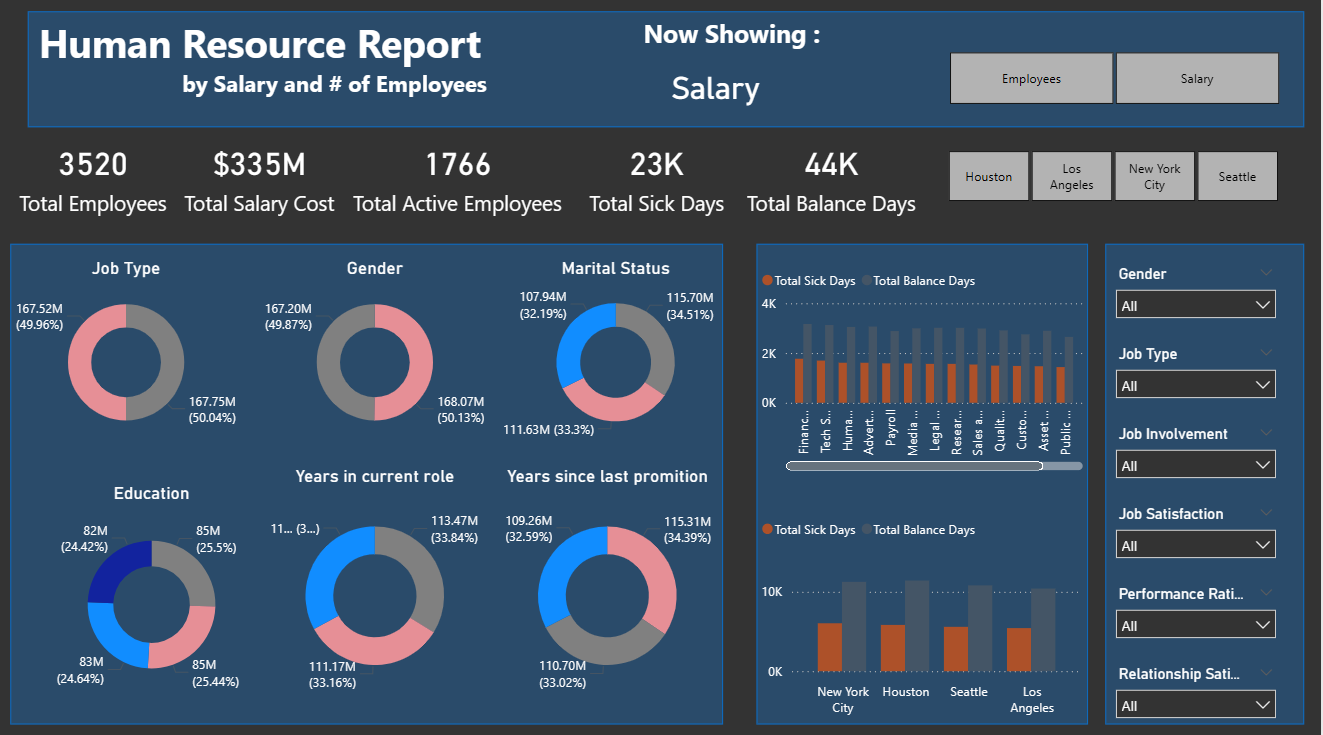

This screenshot's page, from the dashboard's own definition file:
{"tool":"powerbi","page":{"name":"Page 1","canvas":[1280,720],"ordinal":0},"visuals":[{"type":"shape","box":[32,16,1232,112],"z":0,"group":"g1"},{"type":"card","fields":{"Values":["aMeasures.Total Employees"]},"box":[16,128,160,93.2],"z":0,"group":"g4"},{"type":"shape","box":[16,240,688,464],"z":0,"group":"g5"},{"type":"shape","box":[736,240,320,464],"z":0,"group":"g3"},{"type":"shape","box":[1072,240,192,464],"z":0,"group":"g2"},{"type":"textbox","box":[32,16,448,96],"z":1000,"group":"g1"},{"type":"card","fields":{"Values":["aMeasures.Total Salary Cost"]},"box":[176,128,160,93.2],"z":1000,"group":"g4"},{"type":"donutChart","title":"Job Type","fields":{"Category":["Human Resources.Job Type"],"Y":["aMeasures.Selected Value"]},"box":[16,253.1,224,183.5],"z":1000,"group":"g5"},{"type":"slicer","fields":{"Values":["Human Resources.Gender"]},"box":[1072,255.5,174.5,61.9],"z":1000,"group":"g2"},{"type":"clusteredColumnChart","fields":{"Y":["Sum(Human Resources.Sick Days)","Sum(Human Resources.Balance Days)"],"Category":["Human Resources.Business Unit"]},"box":[736,496,320,208],"z":1000,"group":"g3"},{"type":"slicer","fields":{"Values":["Metric.Value"]},"box":[896,48,368,64],"z":2000,"group":"g1"},{"type":"card","fields":{"Values":["aMeasures.Total Active Employees"]},"box":[336,128,224,93.2],"z":2000,"group":"g4"},{"type":"donutChart","title":"Gender","fields":{"Y":["aMeasures.Selected Value"],"Category":["Human Resources.Gender"]},"box":[256,253.1,224,183.5],"z":2000,"group":"g5"},{"type":"clusteredColumnChart","fields":{"Y":["Sum(Human Resources.Sick Days)","Sum(Human Resources.Balance Days)"],"Category":["Human Resources.Departmets"]},"box":[736,256,320,208],"z":2000,"group":"g3"},{"type":"slicer","fields":{"Values":["Human Resources.Job Involvement"]},"box":[1072,410.1,174.5,61.9],"z":2000,"group":"g2"},{"type":"card","fields":{"Values":["aMeasures.Selection"]},"box":[576,64,240,48],"z":3000,"group":"g1"},{"type":"card","fields":{"Values":["aMeasures.Total Sick Days"]},"box":[560,128,160,93.2],"z":3000,"group":"g4"},{"type":"slicer","fields":{"Values":["Human Resources.Job Type"]},"box":[1072,332.8,174.5,61.9],"z":3000,"group":"g2"},{"type":"donutChart","title":"Education","fields":{"Y":["aMeasures.Selected Value"],"Category":["Human Resources.Education"]},"box":[48,470,208,216.8],"z":3000,"group":"g5"},{"type":"textbox","box":[608,16,208,48],"z":4000,"group":"g1"},{"type":"card","fields":{"Values":["aMeasures.Total Balance Days"]},"box":[720,128,176,93.2],"z":4000,"group":"g4"},{"type":"donutChart","title":"Years in current role","fields":{"Y":["aMeasures.Selected Value"],"Category":["Human Resources.Years in current role"]},"box":[256,453.3,224,233.5],"z":4000,"group":"g5"},{"type":"slicer","fields":{"Values":["Human Resources.Job Satisfaction"]},"box":[1072,487.5,174.5,61.9],"z":4000,"group":"g2"},{"type":"slicer","fields":{"Values":["Human Resources.Business Unit"]},"box":[896,143.5,368,62.1],"z":5000,"group":"g4"},{"type":"donutChart","title":"Marital Status","fields":{"Y":["aMeasures.Selected Value"],"Category":["Human Resources.Marital Status"]},"box":[480,253.1,240,183.5],"z":5000,"group":"g5"},{"type":"slicer","fields":{"Values":["Human Resources.Performance Rating"]},"box":[1072,564.8,174.5,61.9],"z":5000,"group":"g2"},{"type":"group","id":"g1","title":"Heading Group","box":[32,16,1232,112],"z":6000},{"type":"donutChart","title":"Years since last promition","fields":{"Y":["aMeasures.Selected Value"],"Category":["Human Resources.Years since last promition"]},"box":[480,453.3,224,233.5],"z":6000,"group":"g5"},{"type":"slicer","fields":{"Values":["Human Resources.Relationship Satisfaction"]},"box":[1072,642.1,174.5,61.9],"z":6000,"group":"g2"},{"type":"group","id":"g2","title":"Slicer Group","box":[1072,240,192,464],"z":7000},{"type":"group","id":"g3","title":"Chart Group","box":[736,240,320,464],"z":8000},{"type":"group","id":"g4","title":"Other Group","box":[16,128,1248,93.2],"z":9001},{"type":"group","id":"g5","title":"Donut Group","box":[16,240,704,464],"z":9501}]}

Visuals, with their boxes in screenshot pixels (x1, y1, x2, y2), scaled from the page's 1280x720 canvas onto the 1323x735 screenshot:
shape: (33, 16, 1306, 131)
card - aMeasures.Total Employees: (17, 131, 182, 226)
shape: (17, 245, 728, 719)
shape: (761, 245, 1091, 719)
shape: (1108, 245, 1306, 719)
textbox: (33, 16, 496, 114)
card - aMeasures.Total Salary Cost: (182, 131, 347, 226)
"Job Type" donutChart: (17, 258, 248, 446)
slicer - Human Resources.Gender: (1108, 261, 1288, 324)
clusteredColumnChart - Sum(Human Resources.Sick Days) x Sum(Human Resources.Balance Days): (761, 506, 1091, 719)
slicer - Metric.Value: (926, 49, 1306, 114)
card - aMeasures.Total Active Employees: (347, 131, 579, 226)
"Gender" donutChart: (265, 258, 496, 446)
clusteredColumnChart - Sum(Human Resources.Sick Days) x Sum(Human Resources.Balance Days): (761, 261, 1091, 474)
slicer - Human Resources.Job Involvement: (1108, 419, 1288, 482)
card - aMeasures.Selection: (595, 65, 843, 114)
card - aMeasures.Total Sick Days: (579, 131, 744, 226)
slicer - Human Resources.Job Type: (1108, 340, 1288, 403)
"Education" donutChart: (50, 480, 265, 701)
textbox: (628, 16, 843, 65)
card - aMeasures.Total Balance Days: (744, 131, 926, 226)
"Years in current role" donutChart: (265, 463, 496, 701)
slicer - Human Resources.Job Satisfaction: (1108, 498, 1288, 561)
slicer - Human Resources.Business Unit: (926, 146, 1306, 210)
"Marital Status" donutChart: (496, 258, 744, 446)
slicer - Human Resources.Performance Rating: (1108, 577, 1288, 640)
"Heading Group" group: (33, 16, 1306, 131)
"Years since last promition" donutChart: (496, 463, 728, 701)
slicer - Human Resources.Relationship Satisfaction: (1108, 655, 1288, 719)
"Slicer Group" group: (1108, 245, 1306, 719)
"Chart Group" group: (761, 245, 1091, 719)
"Other Group" group: (17, 131, 1306, 226)
"Donut Group" group: (17, 245, 744, 719)
